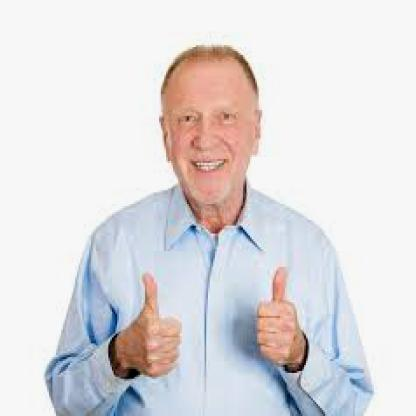Thumbs up: (250, 262, 304, 362), (128, 260, 169, 379)
